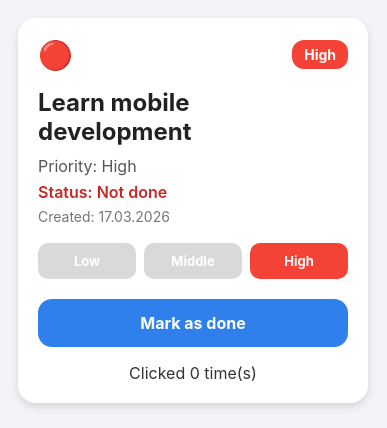
Test: HomeScreen › toggles task status on button press
This screenshot has width=387, height=428.
Click the text "Mark as done": (193, 322) [140,312,246,332]
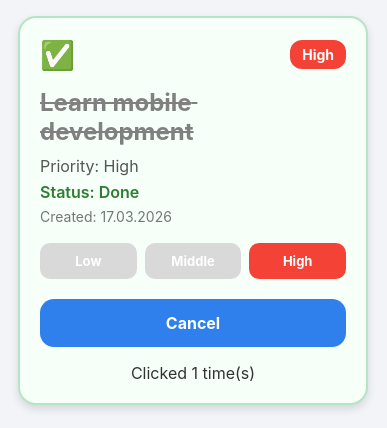
Check: the text "Status: Done" is shown, box [40,182,139,202]
Check: the text "Cancel" is shown, box [166,312,220,332]
Check: the text "✅" is shown, box [40,38,75,72]
